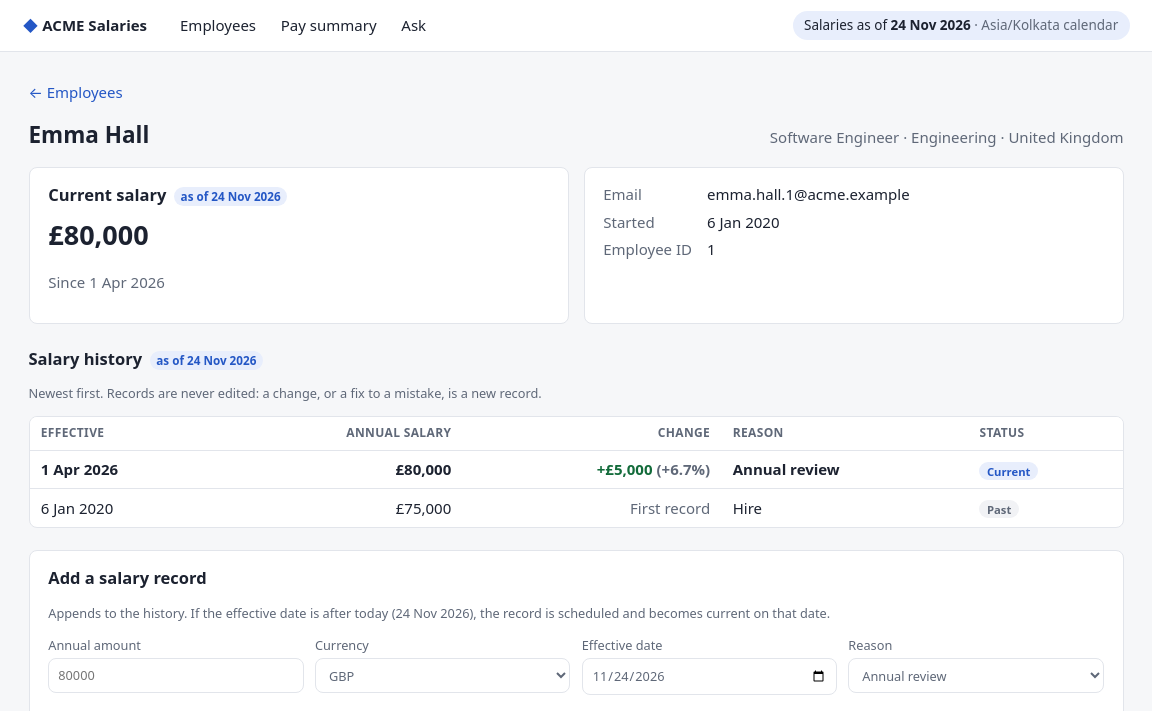
Test: add salary record form › warns that a future date is scheduled and does not change today's salary
The image size is (1152, 711).
Expected: the heading "Emma Hall" is shown, [28, 118, 149, 152]
In the field labelled "Annual amount": [176, 675] box [48, 658, 304, 692], type "90000"
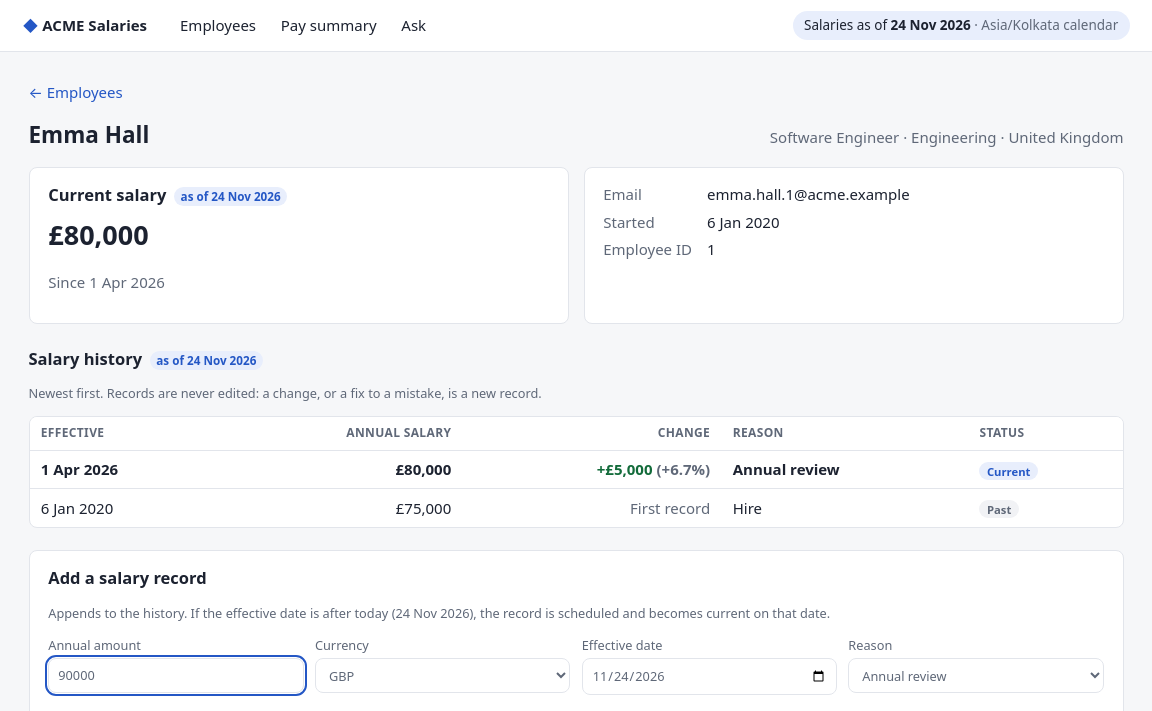
In the date field labelled "Effective date": [709, 676] box [582, 658, 837, 694], type "2027-01-01"
(page scrolled)
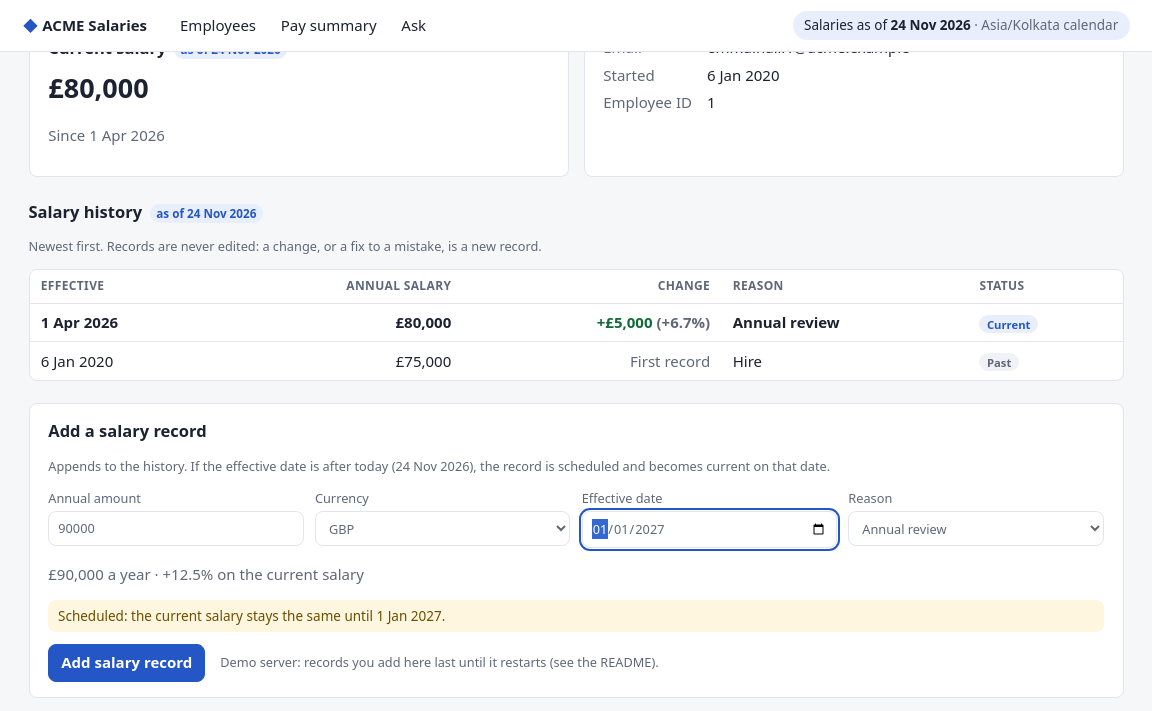
Expected: the text "Scheduled: the current salary stays the same until 1 Jan 2027." is shown, [48, 600, 1104, 632]
